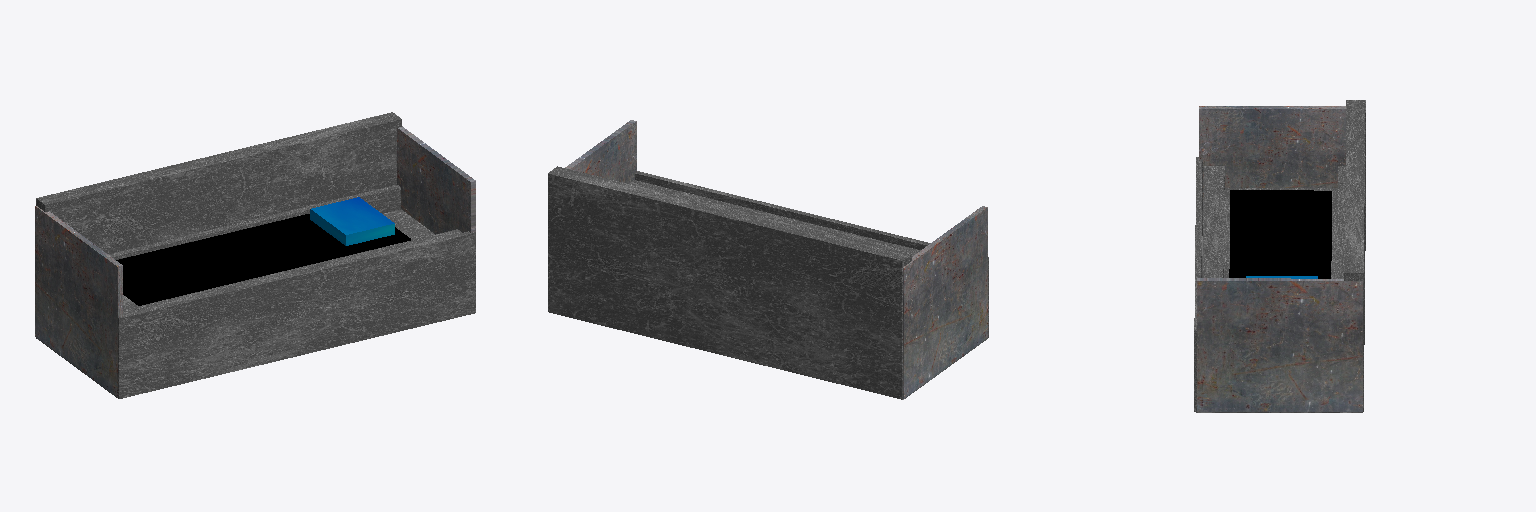
3 renders of one model, left to right at view 1: azimuth 30°, elevation 25°; view 2: azimuth 150°, elevation 25°; view 3: azimuth 270°, elevation 25°, orthographic.
Visible parts, largest first — view 1: camacapsula2:almohada1; view 2: camacapsula2:almohada1; view 3: camacapsula2:almohada1.
Part boxes in pixels (bbox=[...]): camacapsula2:almohada1: bbox=[35, 112, 475, 398]; camacapsula2:almohada1: bbox=[548, 120, 988, 399]; camacapsula2:almohada1: bbox=[1194, 100, 1365, 412].
Bounding box in the file's own units: 1.1 × 0.4082 × 0.4547.
8 materials, 3 textured.